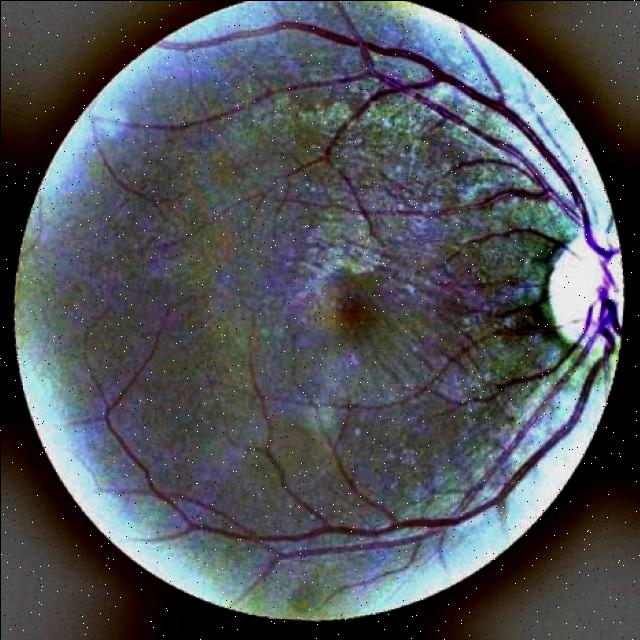Macula: (331, 282, 375, 336)
Nerves: (435, 71, 621, 503), (423, 361, 596, 523)
Optic Disk: (541, 222, 622, 343)
